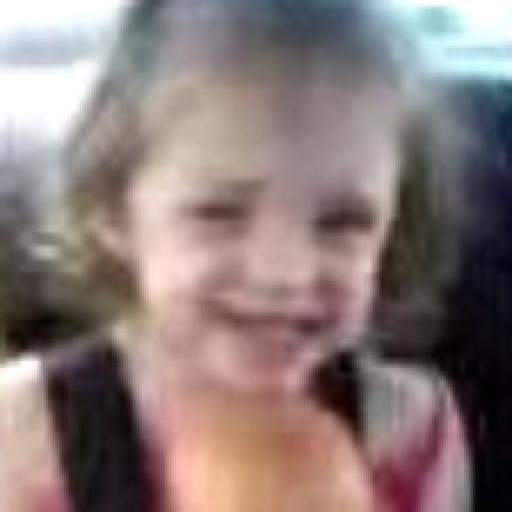Autism: (84, 58, 406, 456)
